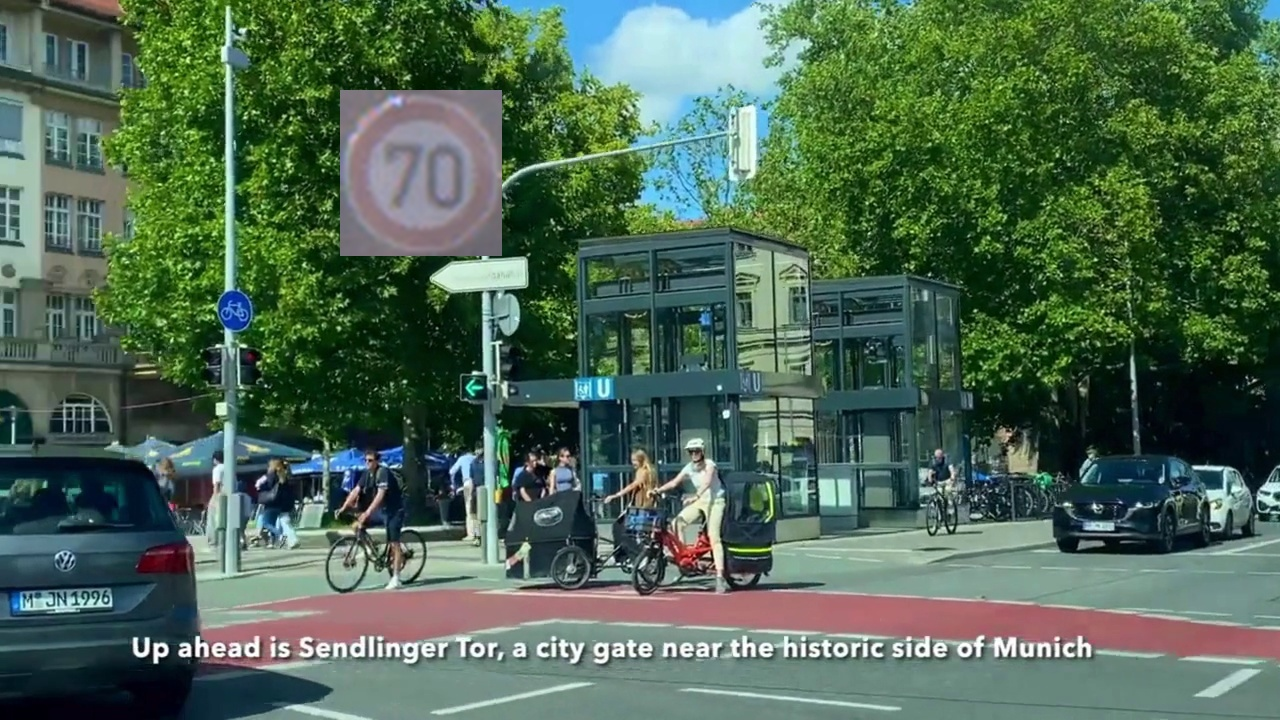Speed 70: (340, 90, 502, 256)
